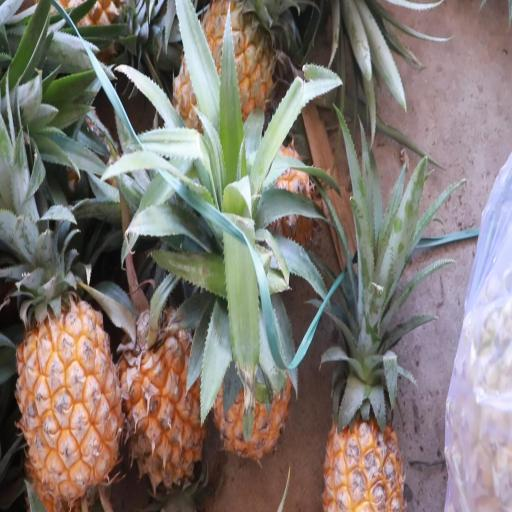Pineapple - v8 v1: (11, 286, 127, 505), (165, 0, 279, 177), (116, 294, 214, 494), (320, 339, 408, 512)
